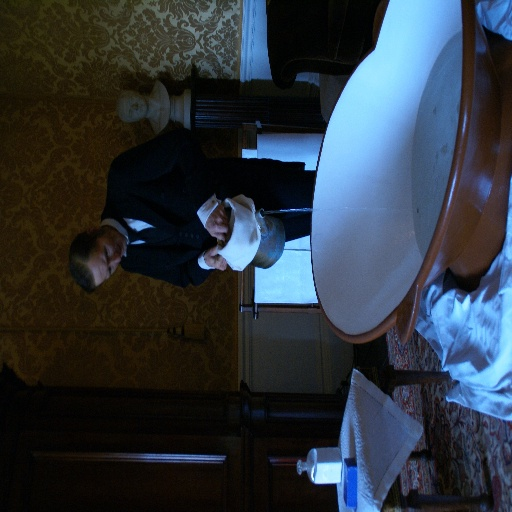hand: (204, 203, 228, 237), (203, 244, 227, 274)
